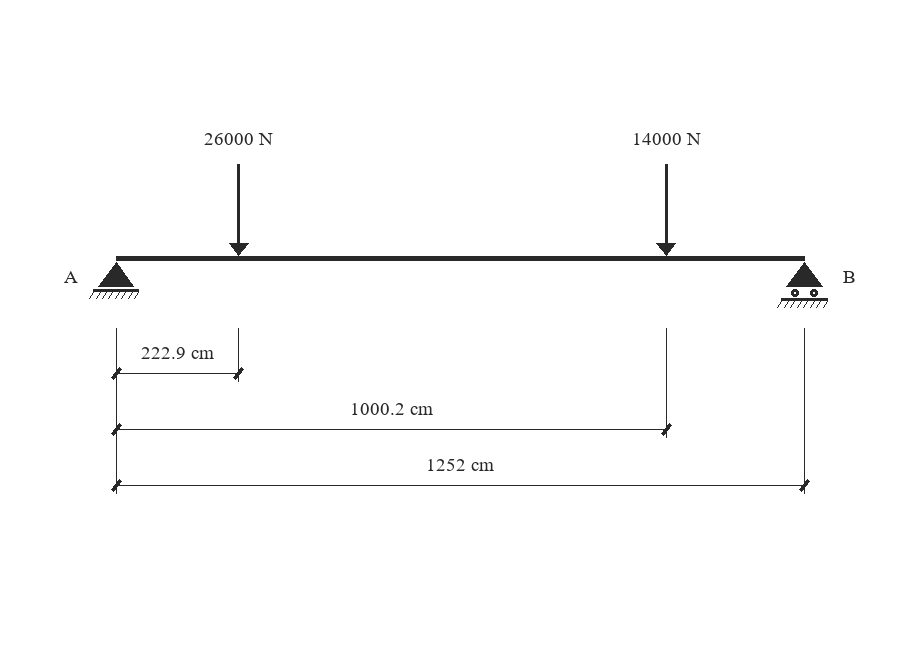pin_support: (89, 262, 139, 299)
point_load: (229, 164, 249, 256), (656, 164, 676, 256)
roller_support: (777, 262, 828, 308)
